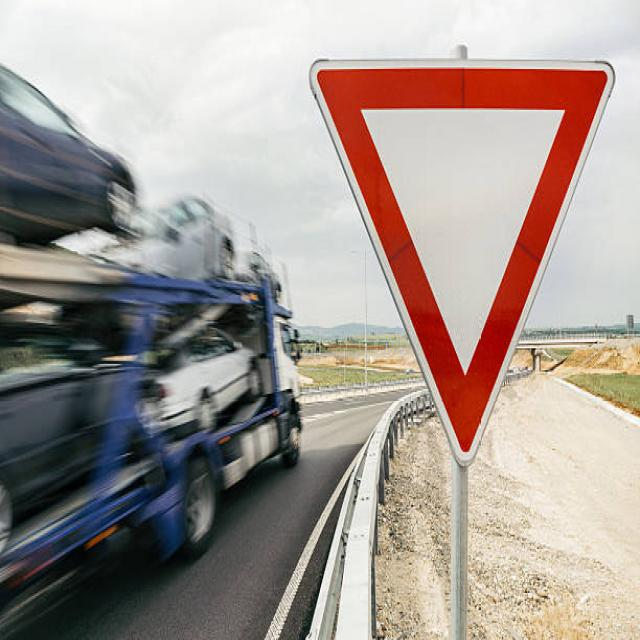give_way: (303, 52, 608, 469)
